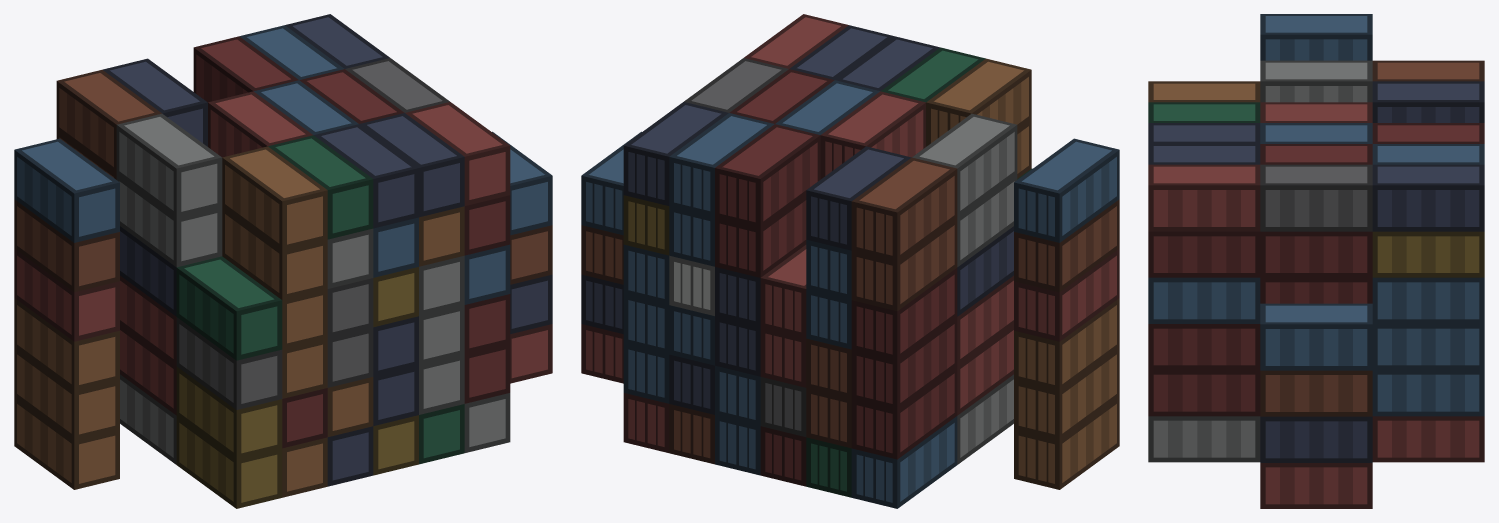
The model's file is light-yard-gantry.glb.
The picture shows the model from 3 angles, left to right: view 1: azimuth 30°, elevation 25°; view 2: azimuth 150°, elevation 25°; view 3: azimuth 270°, elevation 25°; orthographic projection. The views are drawn at different scales.
Visible parts, largest first — view 1: light-yard-gantry; view 2: light-yard-gantry; view 3: light-yard-gantry.
Boxes of the visible parts, box(x1,y1,x2,y2) form: light-yard-gantry: box(14, 14, 552, 508); light-yard-gantry: box(581, 14, 1119, 508); light-yard-gantry: box(1148, 14, 1484, 508).
Bounding box in the file's own units: 60.8 × 36 × 39.6.
